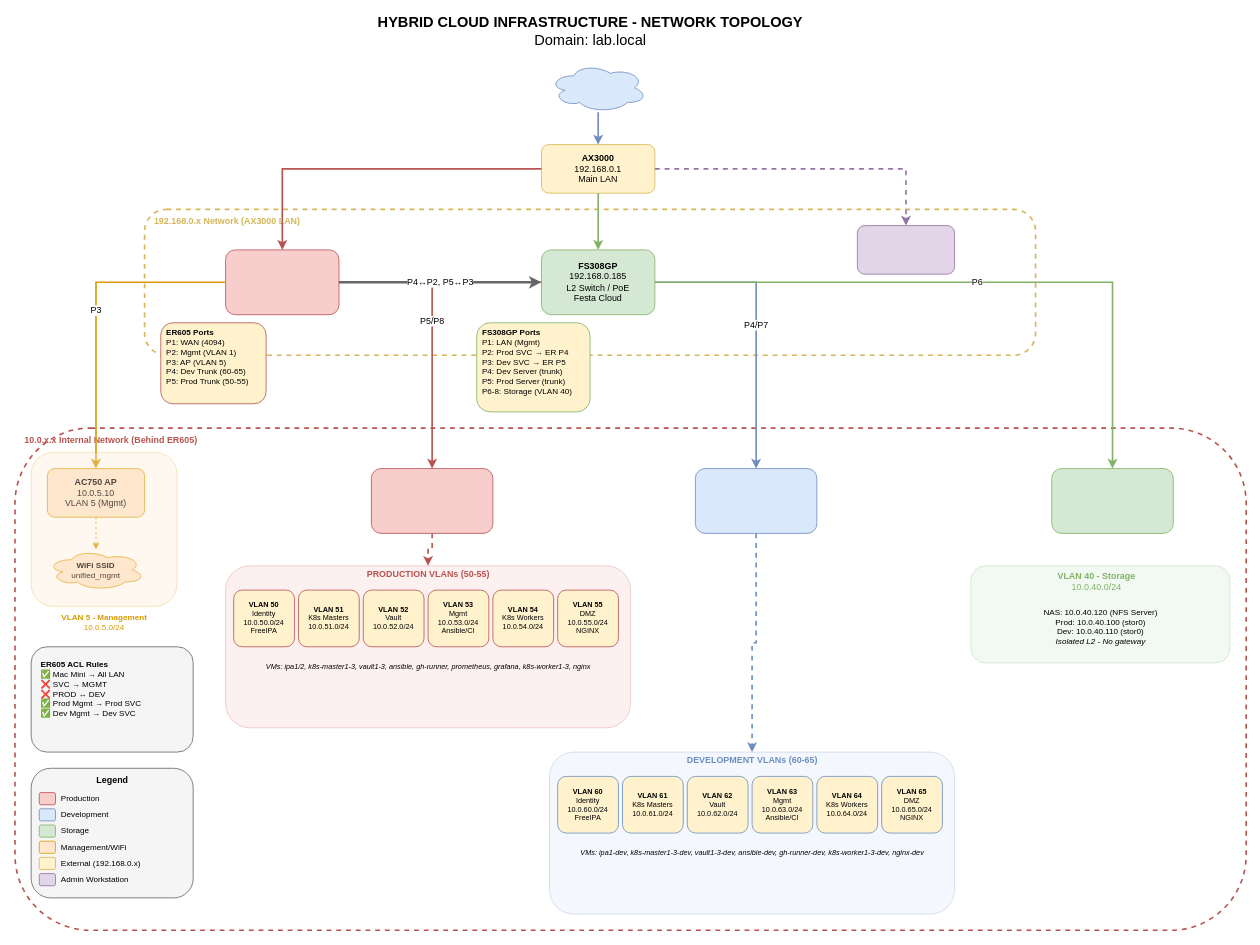
Image size: 1260x945. Some labels were removed from this diagram. The shapes that lost their labels are listed below. From the top down, each one's centre as x and y in pixels, then its label:
(598,87): ISP Internet
(906,249): Mac Mini 192.168.0.223 Admin Workstation
(282,282): ER605 WAN: 192.168.0.175 LAN: 10.0.x.1 Firewall/Router
(432,500): PROD SERVER Asus TUF Gaming A15 Proxmox VE 10.0.5.100 (mgmt)
(756,500): DEV SERVER Asus Vivobook 15 Proxmox VE 10.0.5.110 (mgmt)
(1112,500): NAS ASUSTOR FS6706T 10.0.5.120 (mgmt) 10.0.40.120 (stor)
